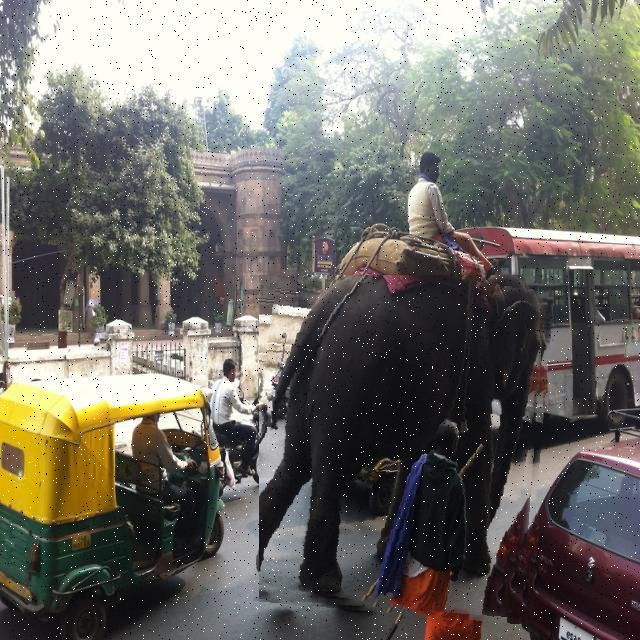elephant: (259, 275, 547, 618)
